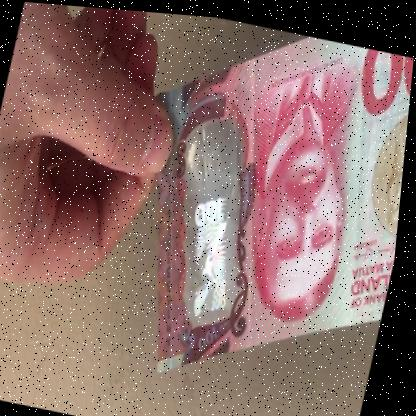100F: (160, 121, 265, 322)
